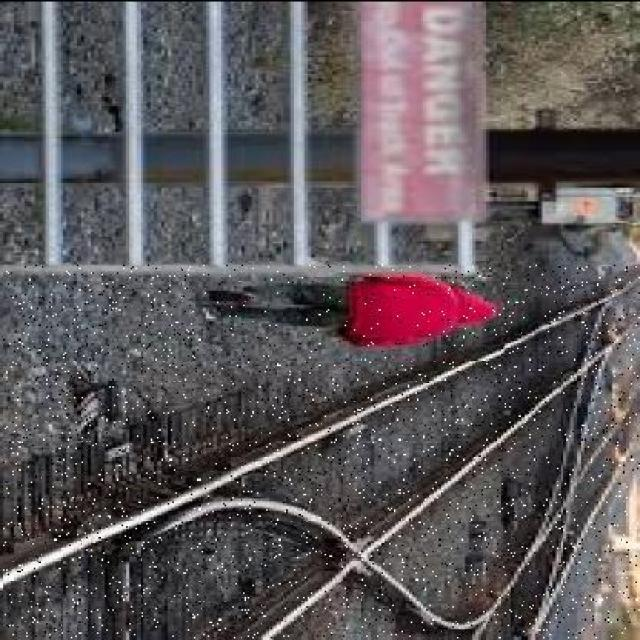danger: (188, 265, 504, 358)
rail: (3, 264, 640, 637)
